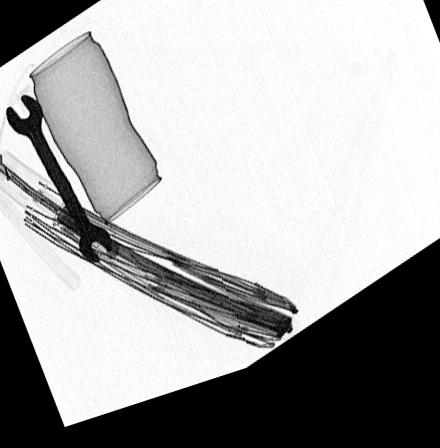Wrench: (5, 97, 113, 271)
